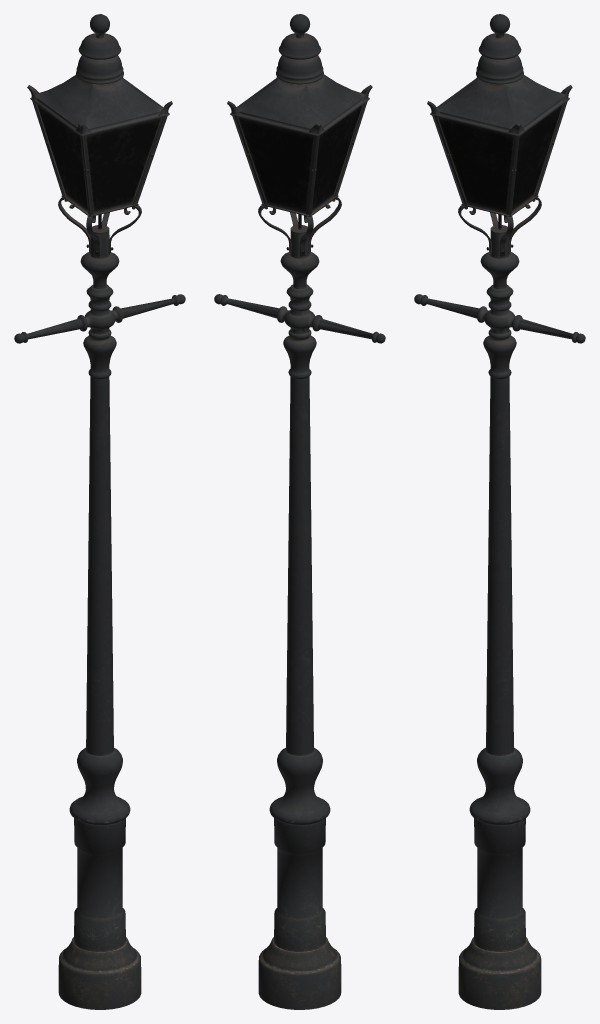
Rendered from street_lamp_01_lod0.glb.
3 renders of one model, left to right at view 1: azimuth 30°, elevation 25°; view 2: azimuth 150°, elevation 25°; view 3: azimuth 330°, elevation 25°, orthographic.
Visible parts, largest first — view 1: street_lamp_01.001, street_lamp_01.002; view 2: street_lamp_01.001, street_lamp_01.002; view 3: street_lamp_01.001, street_lamp_01.002.
Boxes of the visible parts, bbox=[...] form: street_lamp_01.001: bbox=[14, 14, 185, 1009]; street_lamp_01.002: bbox=[37, 104, 162, 213]; street_lamp_01.001: bbox=[214, 14, 385, 1009]; street_lamp_01.002: bbox=[237, 104, 362, 213]; street_lamp_01.001: bbox=[414, 14, 585, 1009]; street_lamp_01.002: bbox=[437, 104, 562, 213].
Size of the model in its own units: 0.7041 by 3.87 by 0.3857.
Materials: 3 (3 with a texture image).
